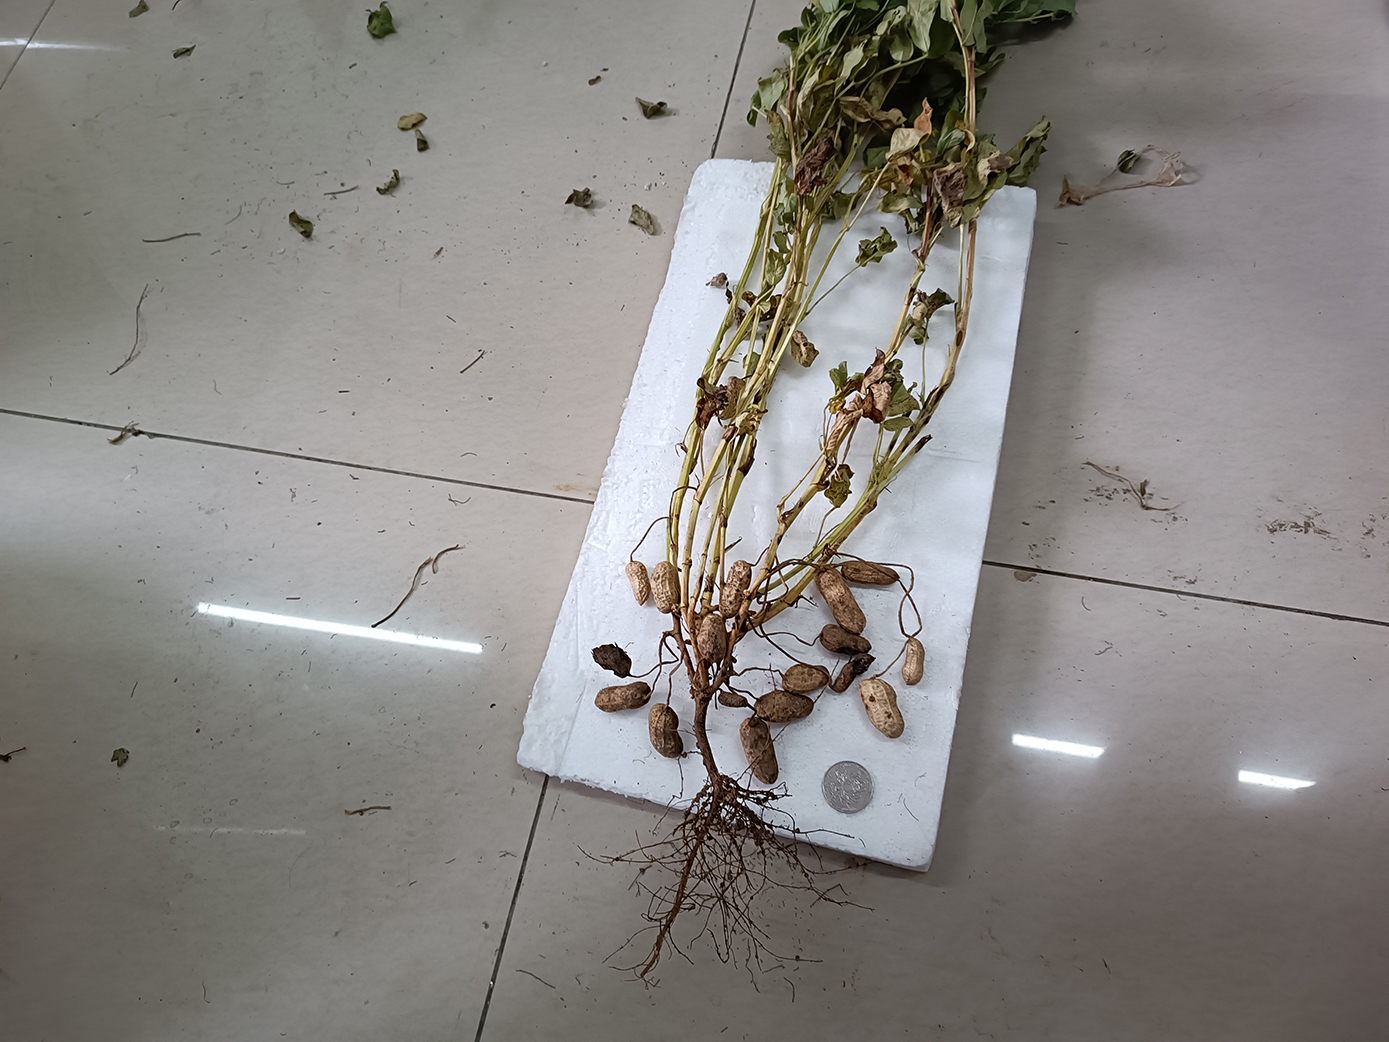h: (817, 566, 867, 635), (859, 679, 905, 739), (648, 703, 684, 759), (651, 560, 681, 615), (697, 612, 727, 663), (783, 662, 830, 693), (901, 637, 925, 686), (625, 561, 650, 607)
l: (741, 717, 779, 784), (753, 688, 814, 722), (719, 560, 752, 620), (594, 681, 651, 713), (832, 652, 876, 693), (820, 624, 873, 653), (591, 641, 632, 679), (841, 561, 900, 584), (718, 691, 748, 708)
